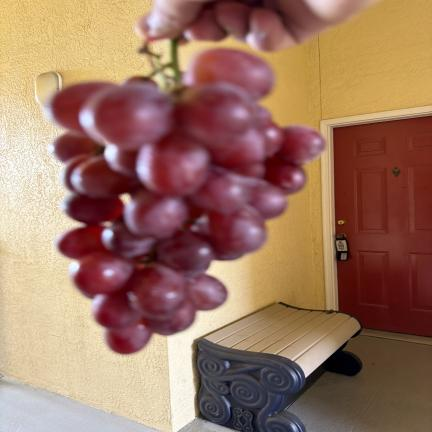grape_cluster: (48, 39, 324, 354)
